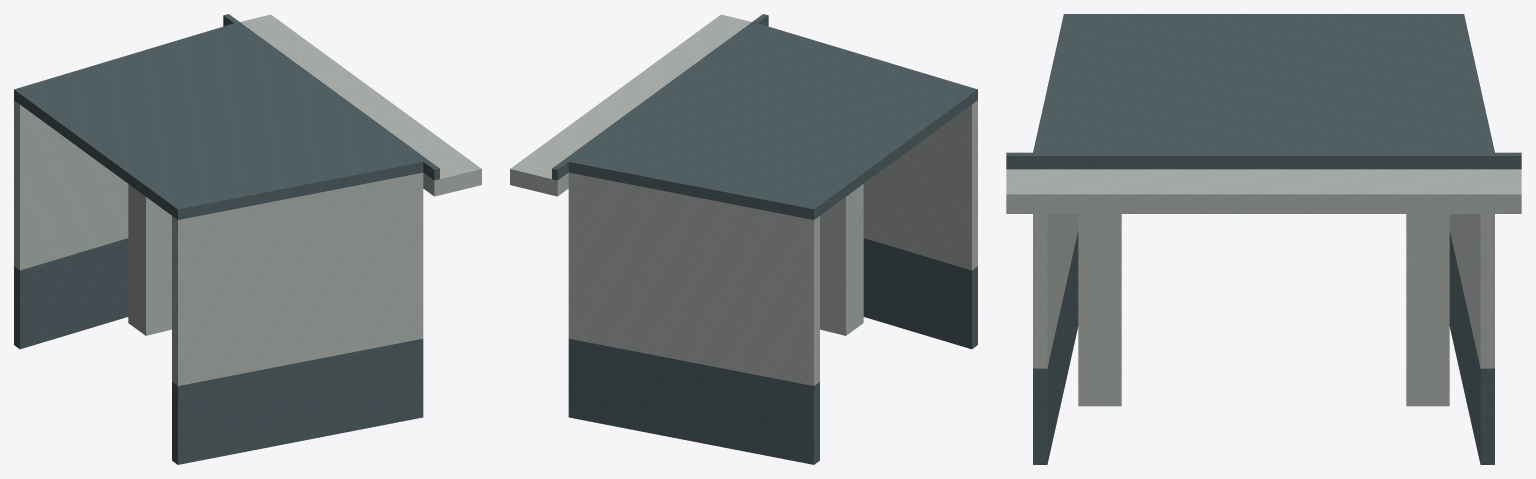
File: AST-STF-G3-022.glb
3 views of the same model, side by side, from view 1: azimuth 30°, elevation 25°; view 2: azimuth 150°, elevation 25°; view 3: azimuth 270°, elevation 25° (orthographic). The views are drawn at different scales.
Parts seen in each view (by area): view 1: screen_wall_staff_white_paint_training_receiver, overhead_staff_bluegrey_paint_training_receiver, screen_wall_staff_bluegrey_paint_training_receiver, door_receiver_staff_white_paint_training_receiver; view 2: screen_wall_staff_white_paint_training_receiver, overhead_staff_bluegrey_paint_training_receiver, screen_wall_staff_bluegrey_paint_training_receiver, door_receiver_staff_white_paint_training_receiver; view 3: overhead_staff_bluegrey_paint_training_receiver, screen_wall_staff_white_paint_training_receiver, door_receiver_staff_white_paint_training_receiver, screen_wall_staff_bluegrey_paint_training_receiver.
Part boxes in pixels (bbox=[...]): screen_wall_staff_white_paint_training_receiver: bbox=[14, 14, 481, 385]; overhead_staff_bluegrey_paint_training_receiver: bbox=[14, 14, 439, 219]; screen_wall_staff_bluegrey_paint_training_receiver: bbox=[14, 238, 423, 464]; door_receiver_staff_white_paint_training_receiver: bbox=[128, 184, 171, 335]; screen_wall_staff_white_paint_training_receiver: bbox=[510, 14, 977, 385]; overhead_staff_bluegrey_paint_training_receiver: bbox=[552, 14, 977, 219]; screen_wall_staff_bluegrey_paint_training_receiver: bbox=[568, 238, 977, 464]; door_receiver_staff_white_paint_training_receiver: bbox=[820, 184, 863, 335]; overhead_staff_bluegrey_paint_training_receiver: bbox=[1006, 14, 1521, 169]; screen_wall_staff_white_paint_training_receiver: bbox=[1006, 169, 1521, 368]; door_receiver_staff_white_paint_training_receiver: bbox=[1078, 214, 1449, 406]; screen_wall_staff_bluegrey_paint_training_receiver: bbox=[1033, 231, 1494, 464].
Size of the model in its own units: 3.83 by 3.34 by 5.
4 materials, 4 textured.
